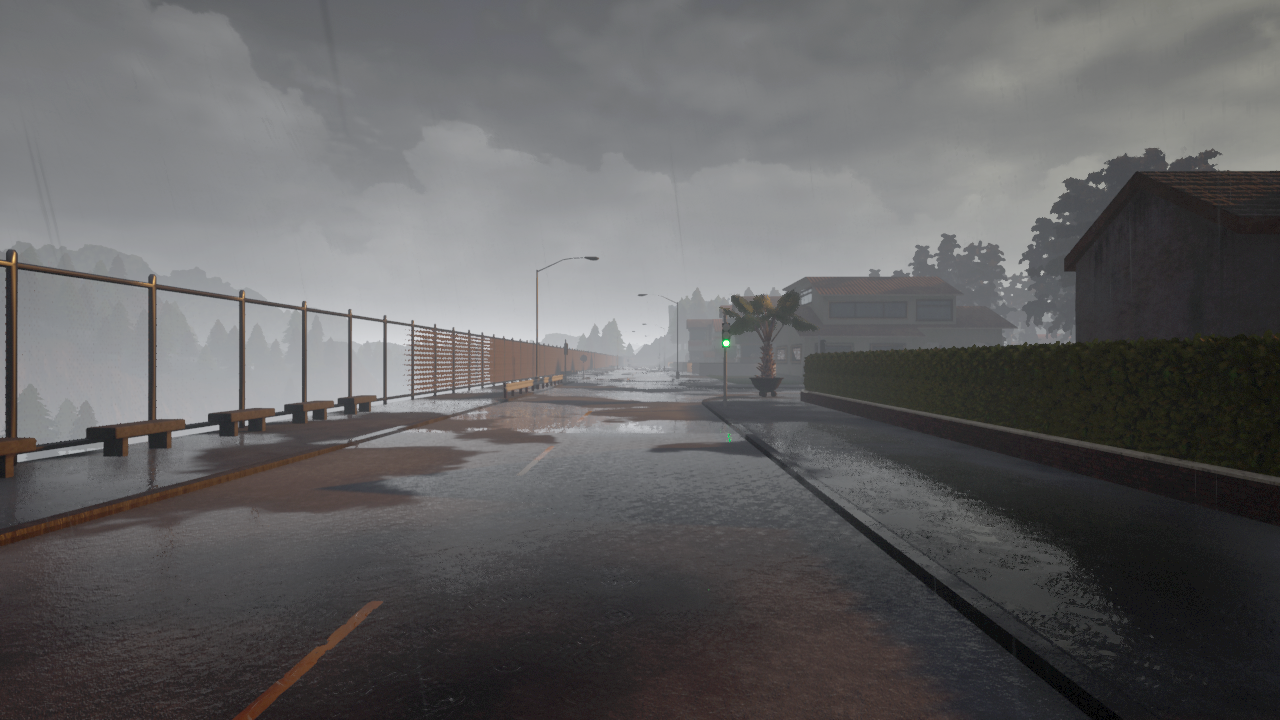green: (720, 321, 731, 348)
